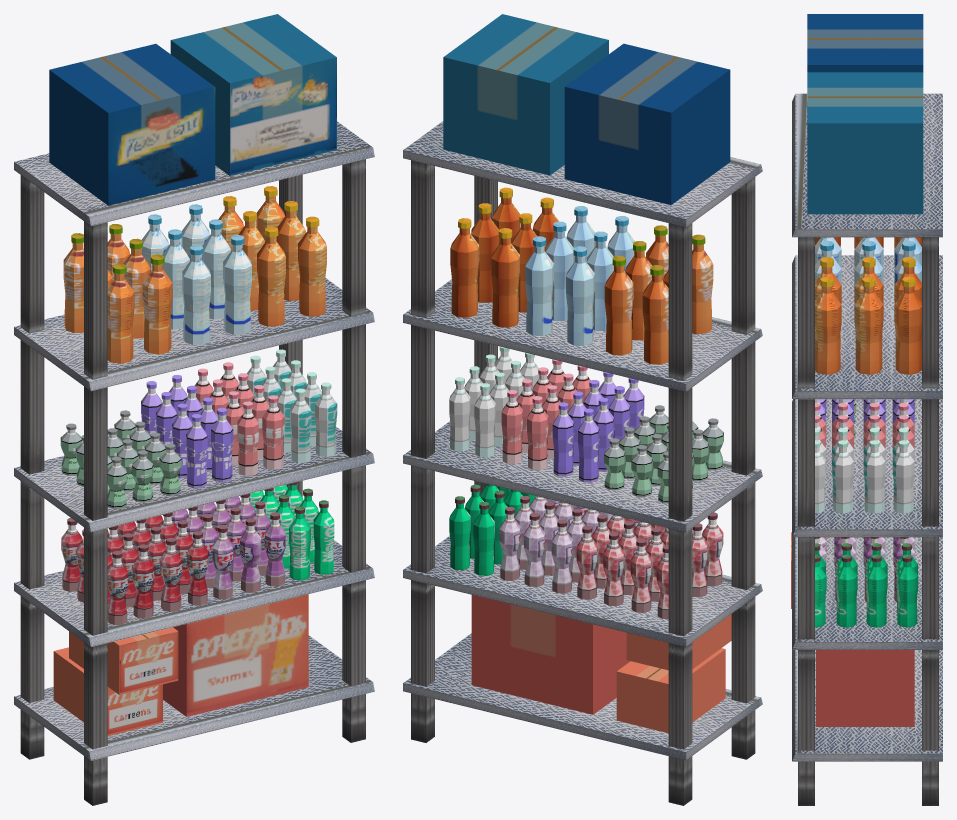
The model's file is shelf 2.FBX.
The picture shows the model from 3 angles, left to right: view 1: azimuth 30°, elevation 25°; view 2: azimuth 150°, elevation 25°; view 3: azimuth 270°, elevation 25°; orthographic projection. The views are drawn at different scales.
Visible parts, largest first — view 1: 紙箱012, 紙箱013, 腳架006, 腳架007, 腳架004, 紙箱009, 板架008, 板架005, 板架007, 板架006, 板架009, 紙箱008 (+55 smaller); view 2: 紙箱012, 紙箱013, 腳架004, 紙箱009, 腳架005, 腳架006, 板架007, 板架008, 板架006, 板架005, 板架009, 紙箱007 (+56 smaller); view 3: 紙箱013, 腳架005, 腳架007, 板架007, 板架008, 板架009, 紙箱009, 板架006, 紙箱012, 板架005, 礦泉水215, 礦泉水216 (+30 smaller).
Part boxes in pixels (x1=…): 紙箱012: x1=49, y1=43, x2=215, y2=205; 紙箱013: x1=170, y1=14, x2=336, y2=175; 腳架006: x1=84, y1=221, x2=107, y2=805; 腳架007: x1=342, y1=159, x2=365, y2=742; 腳架004: x1=20, y1=175, x2=44, y2=759; 紙箱009: x1=163, y1=594, x2=308, y2=716; 板架008: x1=14, y1=278, x2=374, y2=391; 板架005: x1=14, y1=635, x2=374, y2=760; 板架007: x1=14, y1=426, x2=374, y2=532; 板架006: x1=14, y1=540, x2=374, y2=646; 板架009: x1=14, y1=121, x2=374, y2=225; 紙箱008: x1=69, y1=627, x2=178, y2=694; 紙箱012: x1=564, y1=43, x2=730, y2=204; 紙箱013: x1=443, y1=14, x2=608, y2=175; 腳架004: x1=668, y1=223, x2=692, y2=805; 紙箱009: x1=471, y1=595, x2=630, y2=714; 腳架005: x1=411, y1=160, x2=434, y2=742; 腳架006: x1=731, y1=177, x2=755, y2=759; 板架007: x1=403, y1=421, x2=762, y2=532; 板架008: x1=403, y1=279, x2=762, y2=391; 板架006: x1=403, y1=536, x2=762, y2=646; 板架005: x1=403, y1=633, x2=762, y2=760; 板架009: x1=403, y1=121, x2=762, y2=227; 紙箱007: x1=616, y1=648, x2=725, y2=733; 紙箱013: x1=807, y1=72, x2=923, y2=214; 腳架005: x1=922, y1=237, x2=938, y2=805; 腳架007: x1=798, y1=237, x2=814, y2=805; 板架007: x1=792, y1=399, x2=942, y2=537; 板架008: x1=792, y1=255, x2=942, y2=399; 板架009: x1=792, y1=93, x2=942, y2=237; 紙箱009: x1=816, y1=650, x2=914, y2=726; 板架006: x1=792, y1=537, x2=942, y2=649; 紙箱012: x1=807, y1=14, x2=923, y2=72; 板架005: x1=792, y1=650, x2=942, y2=761; 礦泉水215: x1=854, y1=276, x2=883, y2=374; 礦泉水216: x1=894, y1=276, x2=921, y2=374.
Size of the model in its own units: 565 by 1301 by 267.
Materials: 16 (16 with a texture image).
